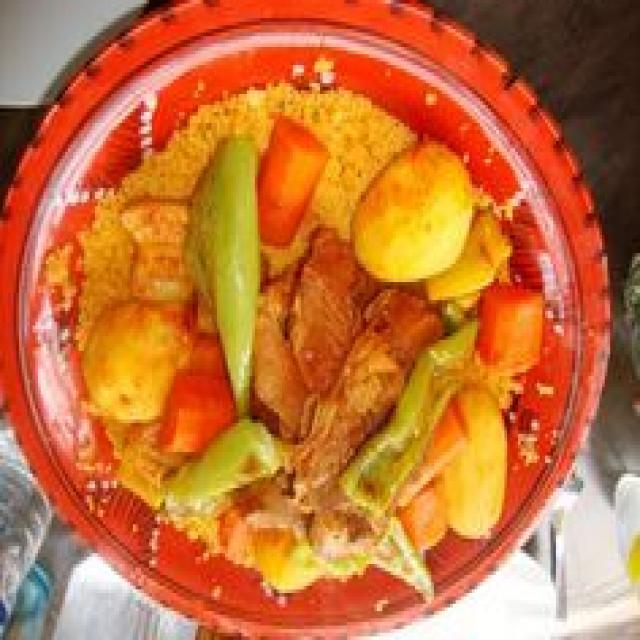Couscous: (48, 29, 608, 640)
